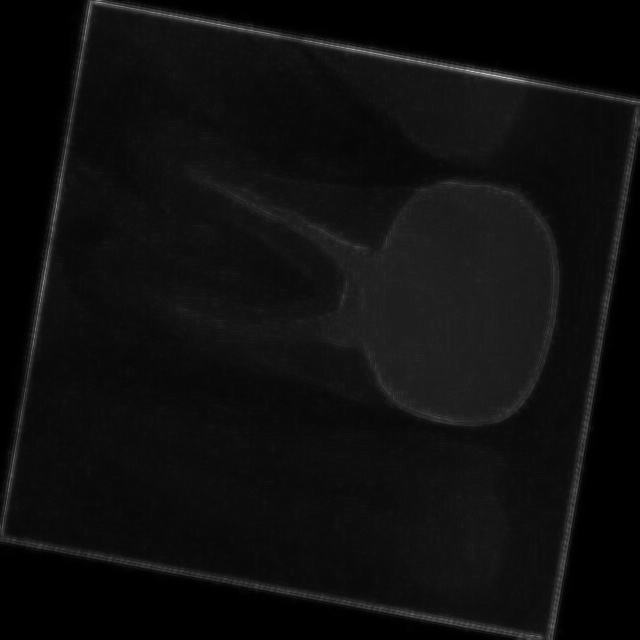Class 1- complete endodontic treatment: (27, 69, 605, 502)
cavity: (15, 338, 540, 621)
